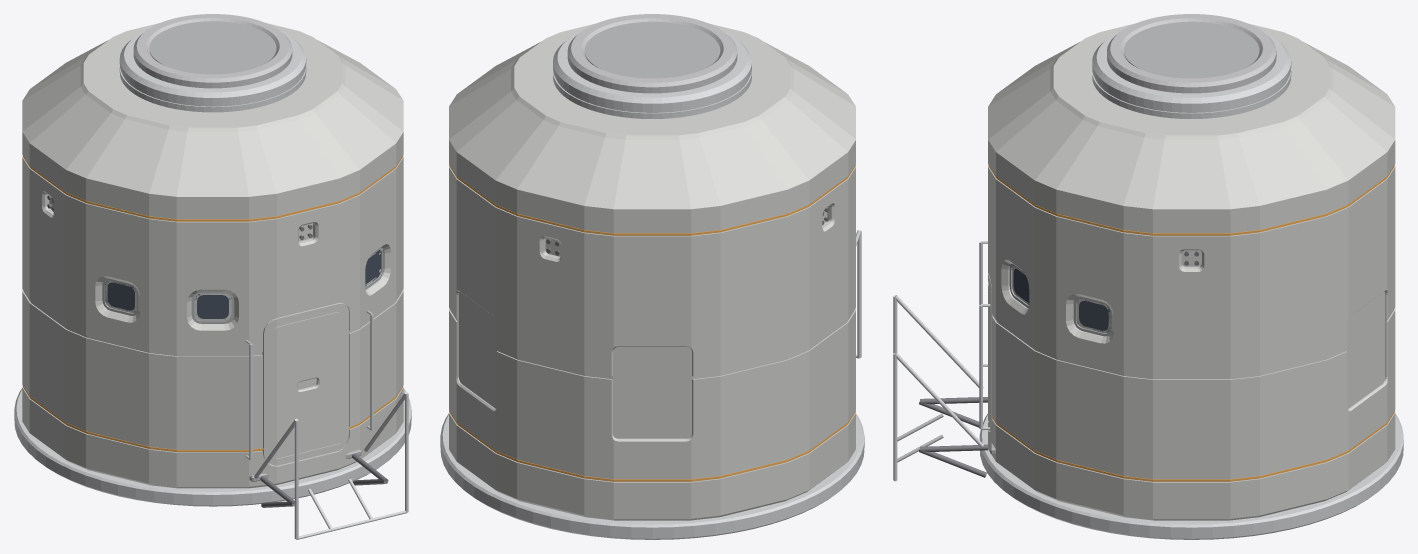
The model's file is ax_cmd_05_lander_crew_cabin.glb.
3 views of the same model, side by side, from view 1: azimuth 30°, elevation 25°; view 2: azimuth 150°, elevation 25°; view 3: azimuth 270°, elevation 25° (orthographic). The views are drawn at different scales.
Parts seen in each view (by area): view 1: shell, hatch_door_1, interface_ring, docking_collar, docking_hatch, docking_port, porch_rails, window_glass, orange_stripes, handrails, window_frames, porch_struts; view 2: shell, interface_ring, docking_collar, docking_hatch, docking_port, orange_stripes, porch_rails; view 3: shell, interface_ring, docking_collar, docking_hatch, docking_port, orange_stripes, porch_rails, porch_struts, window_glass, handrails, hatch_door_1.
Boxes of the visible parts, x1,y1,x2,y2 form: shell: (22, 23, 403, 488); hatch_door_1: (262, 302, 349, 465); interface_ring: (14, 388, 411, 506); docking_collar: (119, 29, 306, 112); docking_hatch: (149, 21, 276, 74); docking_port: (133, 14, 292, 88); porch_rails: (254, 392, 408, 539); window_glass: (105, 250, 380, 320); orange_stripes: (23, 156, 402, 451); handrails: (245, 310, 373, 460); window_frames: (102, 247, 383, 323); porch_struts: (260, 453, 388, 507); shell: (449, 23, 855, 520); interface_ring: (440, 413, 864, 539); docking_collar: (553, 30, 751, 118); docking_hatch: (584, 21, 720, 78); docking_port: (567, 14, 737, 93); orange_stripes: (449, 165, 855, 481); porch_rails: (856, 230, 861, 358); shell: (988, 23, 1395, 520); interface_ring: (979, 414, 1403, 539); docking_collar: (1092, 30, 1291, 118); docking_hatch: (1124, 21, 1259, 78); docking_port: (1107, 14, 1276, 93); orange_stripes: (988, 165, 1394, 481); porch_rails: (893, 295, 983, 481); porch_struts: (919, 397, 987, 477); window_glass: (1012, 269, 1110, 332); handrails: (979, 241, 990, 429); hatch_door_1: (988, 273, 993, 430).
Bounding box in the file's own units: 3.75 × 3.95 × 4.51.
